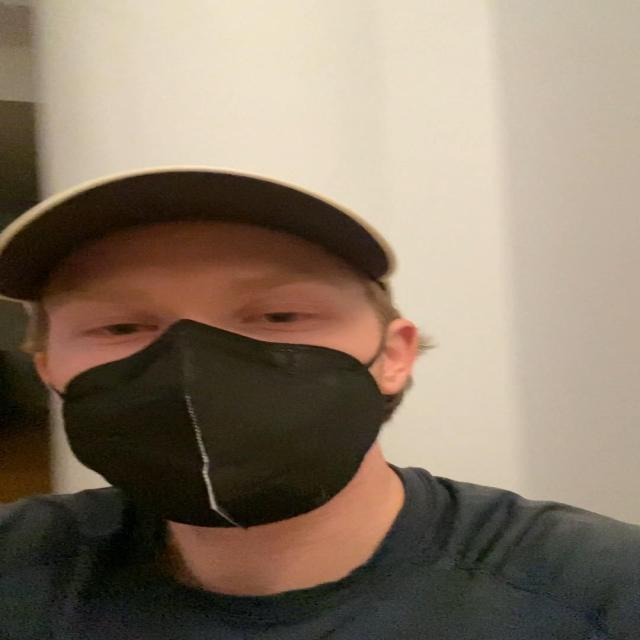no-helmet: (45, 223, 391, 527)
